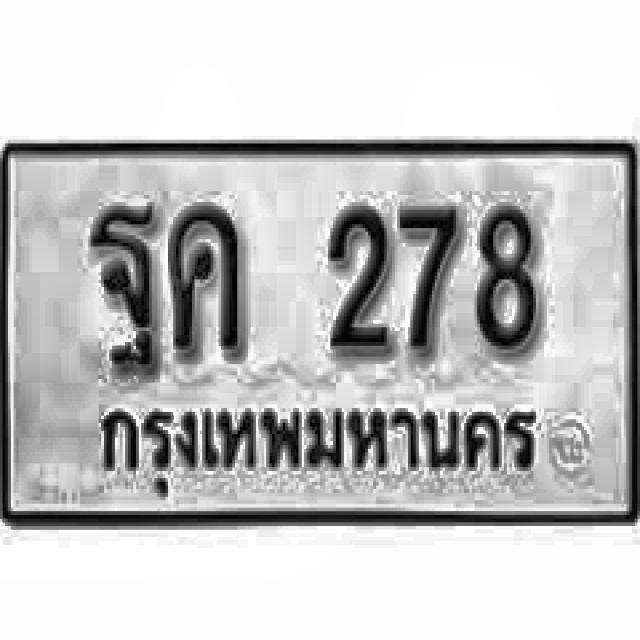license-plate: (0, 121, 640, 528)
